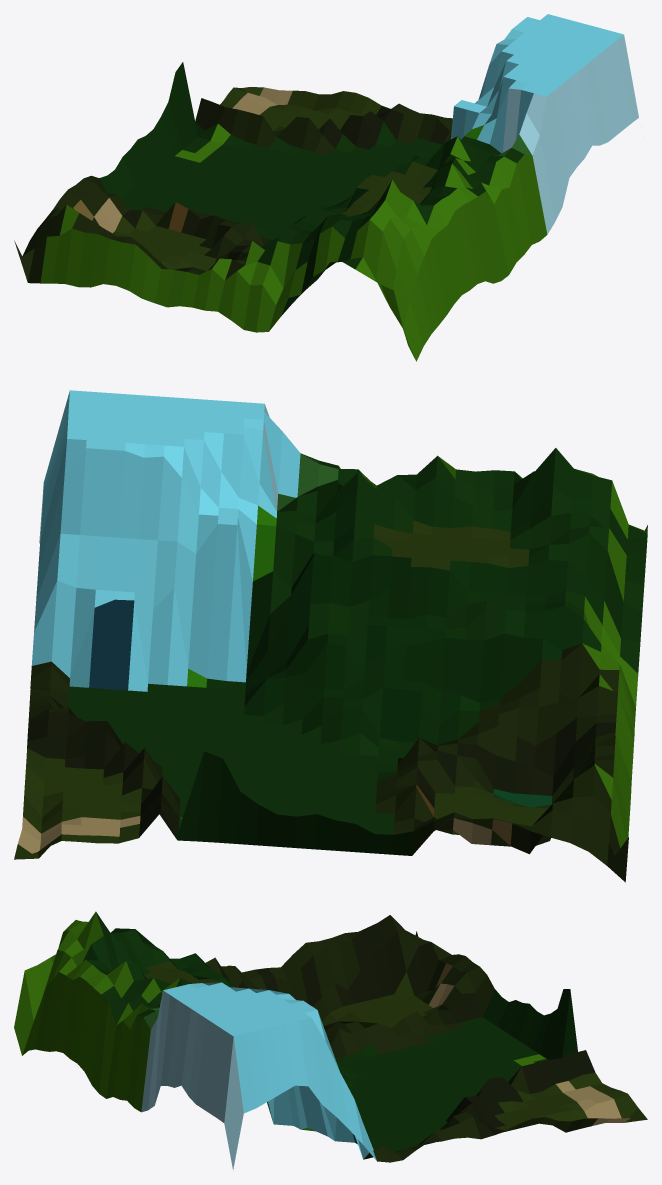
The model's file is zooColor.fbx.
3 views of the same model, one above another, from view 1: azimuth 30°, elevation 25°; view 2: azimuth 150°, elevation 25°; view 3: azimuth 270°, elevation 25° (orthographic). The views are drawn at different scales.
Parts seen in each view (by area): view 1: Plane; view 2: Plane; view 3: Plane.
Part boxes in pixels (<box>): Plane: <box>14,14,638,361</box>; Plane: <box>14,390,647,882</box>; Plane: <box>14,911,647,1170</box>.
Size of the model in its own units: 2713 by 919 by 2766.
